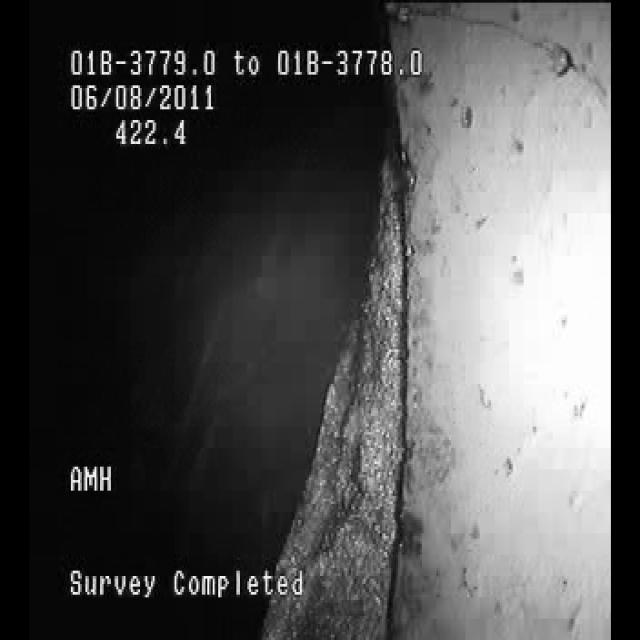Crack: (418, 4, 604, 100)
